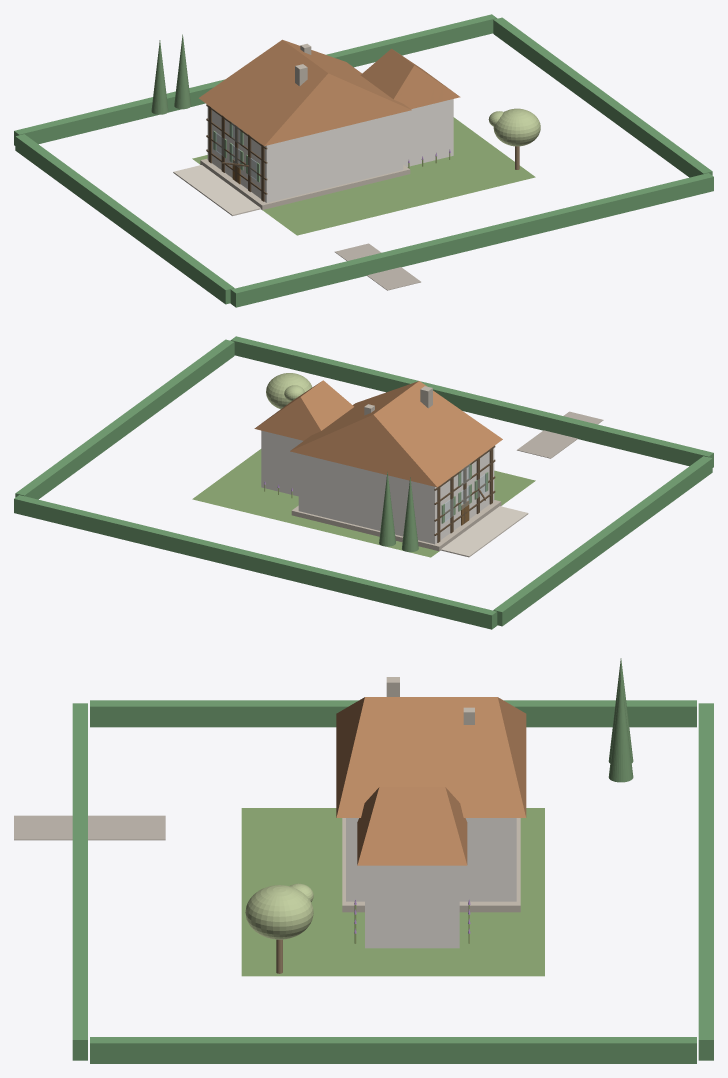
The model's file is parcel-a-maison-normande.glb.
3 views of the same model, one above another, from view 1: azimuth 30°, elevation 25°; view 2: azimuth 150°, elevation 25°; view 3: azimuth 270°, elevation 25° (orthographic). The views are drawn at different scales.
Parts seen in each view (by area): view 1: A_Roof_Main, A_Body, A_Grass, A_Hedge.001, A_Hedge, A_Hedge.002, A_Hedge.003, A_Roof_Wing, A_Wing, A_Terrace, A_Base, Sphere.008 (+3 smaller); view 2: A_Roof_Main, A_Hedge, A_Body, A_Hedge.001, A_Grass, A_Hedge.002, A_Hedge.003, A_Roof_Wing, A_Wing, A_Terrace, A_Base, A_Path (+3 smaller); view 3: A_Grass, A_Roof_Main, A_Hedge.003, A_Hedge.002, A_Roof_Wing, A_Wing, A_Body, A_Hedge, A_Hedge.001, A_Path, Sphere.008, A_Base (+1 smaller).
Boxes of the visible parts, x1,y1,x2,y2 form: A_Roof_Main: (199,39,411,145); A_Body: (207,107,403,202); A_Grass: (192,117,535,235); A_Hedge.001: (230,173,713,307); A_Hedge: (14,14,497,145); A_Hedge.002: (15,134,234,304); A_Hedge.003: (493,17,712,177); A_Roof_Wing: (360,48,460,109); A_Wing: (403,99,453,166); A_Terrace: (173,165,260,216); A_Base: (200,158,410,209); Sphere.008: (493,108,540,146); A_Roof_Main: (290,381,502,487); A_Hedge: (14,495,497,629); A_Body: (298,448,494,544); A_Hedge.001: (230,336,713,467); A_Grass: (192,449,535,557); A_Hedge.002: (493,456,712,626); A_Hedge.003: (15,339,234,499); A_Roof_Wing: (254,380,353,440); A_Wing: (261,430,302,496); A_Terrace: (440,506,528,557); A_Base: (291,500,501,551); A_Path: (517,411,603,458); A_Grass: (241,808,544,976); A_Roof_Main: (336,697,526,817); A_Hedge.003: (90,1037,696,1063); A_Hedge.002: (90,700,696,727); A_Roof_Wing: (357,787,467,865); A_Wing: (365,865,459,948); A_Body: (346,818,516,901); A_Hedge: (698,703,713,1060); A_Hedge.001: (72,703,87,1060); A_Path: (14,815,165,840); Sphere.008: (245,885,313,939); A_Base: (342,818,520,912).
Size of the model in its own units: 42.8 by 9.85 by 36.9.
